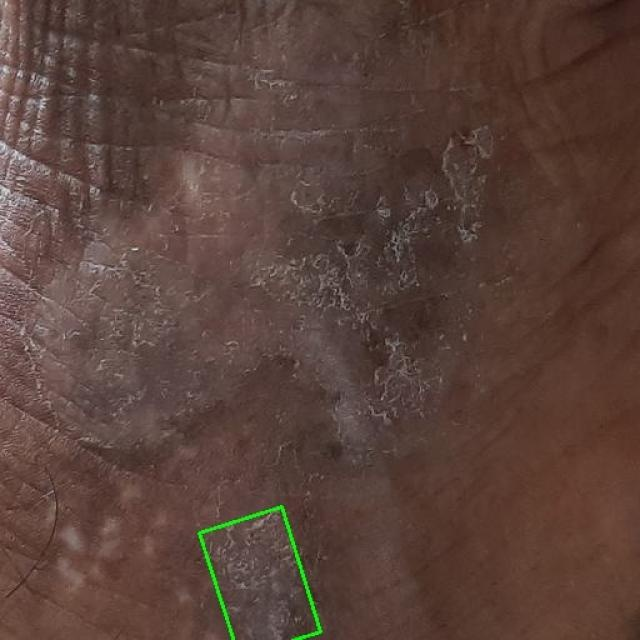Eczema: (200, 507, 321, 640)
